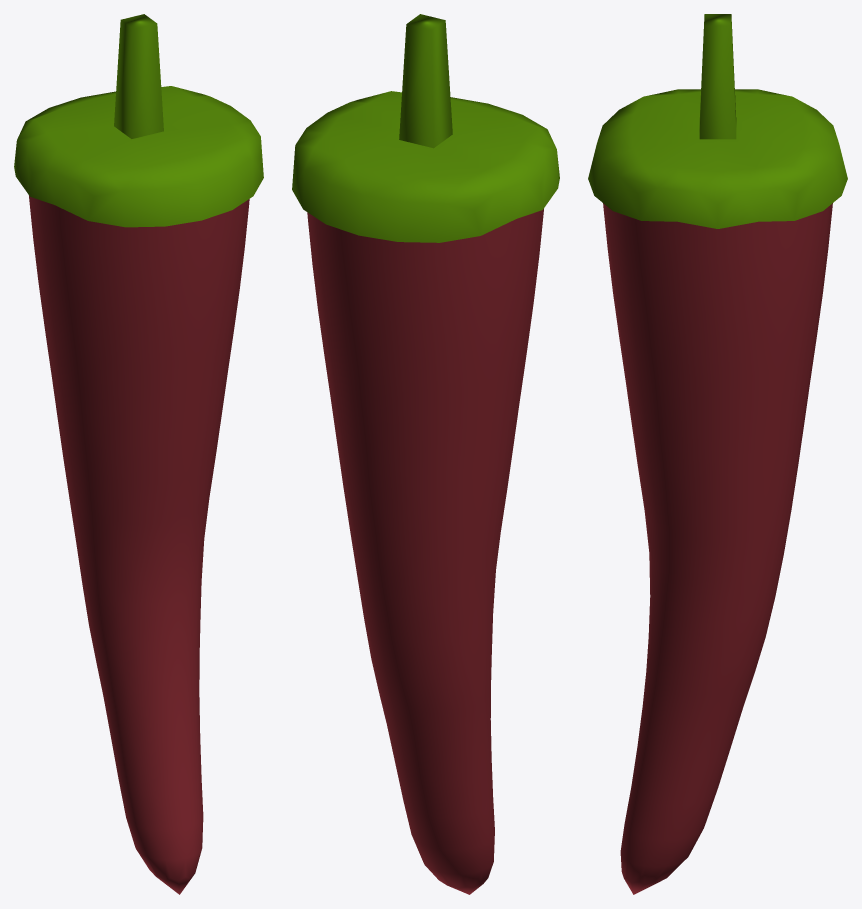
Rendered from pepper.fbx.
The picture shows the model from 3 angles, left to right: view 1: azimuth 30°, elevation 25°; view 2: azimuth 150°, elevation 25°; view 3: azimuth 270°, elevation 25°; orthographic projection. The views are drawn at different scales.
Visible parts, largest first — view 1: pCone1; view 2: pCone1; view 3: pCone1.
Boxes of the visible parts, x1,y1,x2,y2 form: pCone1: (14,14,263,894); pCone1: (292,14,559,894); pCone1: (588,14,847,894).
Bounding box in the file's own units: 40.93 × 151 × 40.78.
